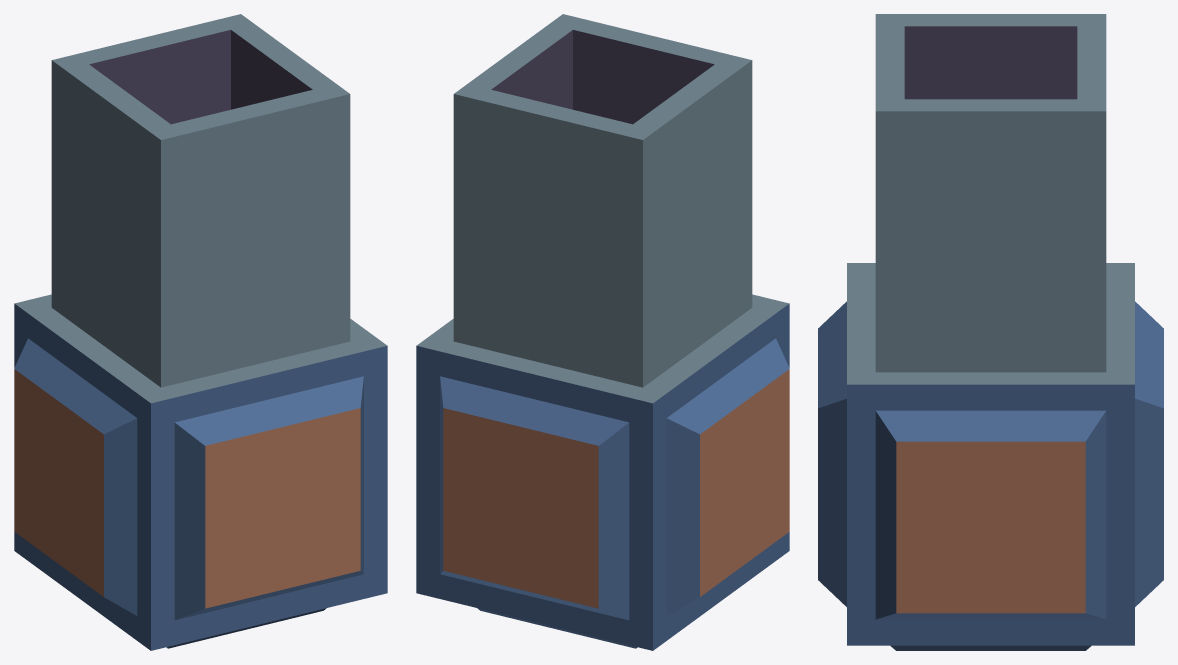
The model's file is moving_gun.fbx.
The picture shows the model from 3 angles, left to right: view 1: azimuth 30°, elevation 25°; view 2: azimuth 150°, elevation 25°; view 3: azimuth 270°, elevation 25°; orthographic projection. The views are drawn at different scales.
Visible parts, largest first — view 1: MovingGun; view 2: MovingGun; view 3: MovingGun.
Boxes of the visible parts, x1,y1,x2,y2 form: MovingGun: [14, 14, 387, 650]; MovingGun: [416, 14, 789, 650]; MovingGun: [818, 14, 1163, 650].
Bounding box in the file's own units: 120 × 210 × 120.
